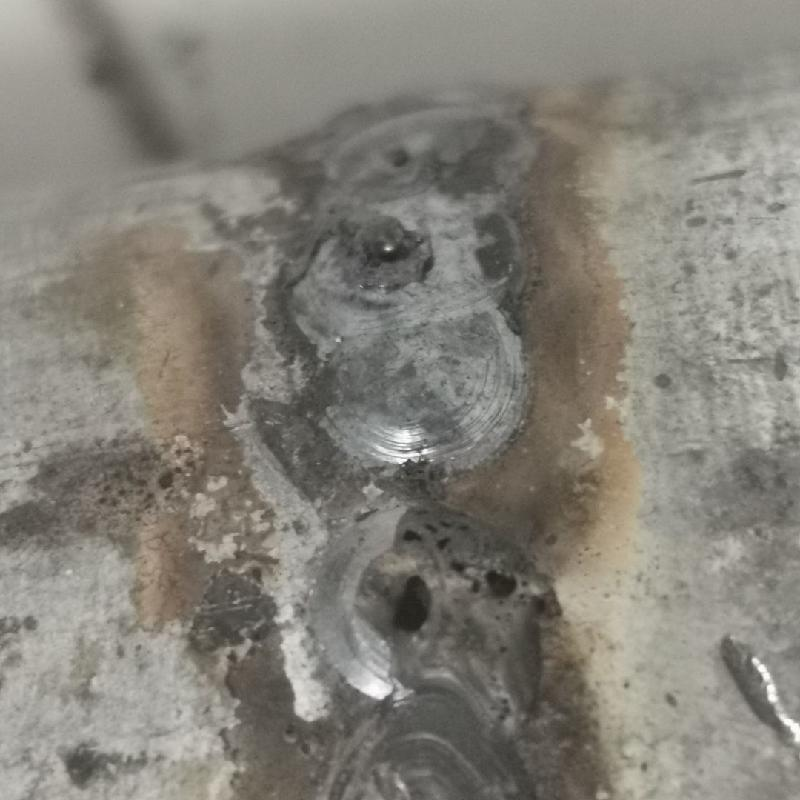Surface_pores: (376, 505, 551, 651)
wrong_size: (293, 77, 571, 797)
